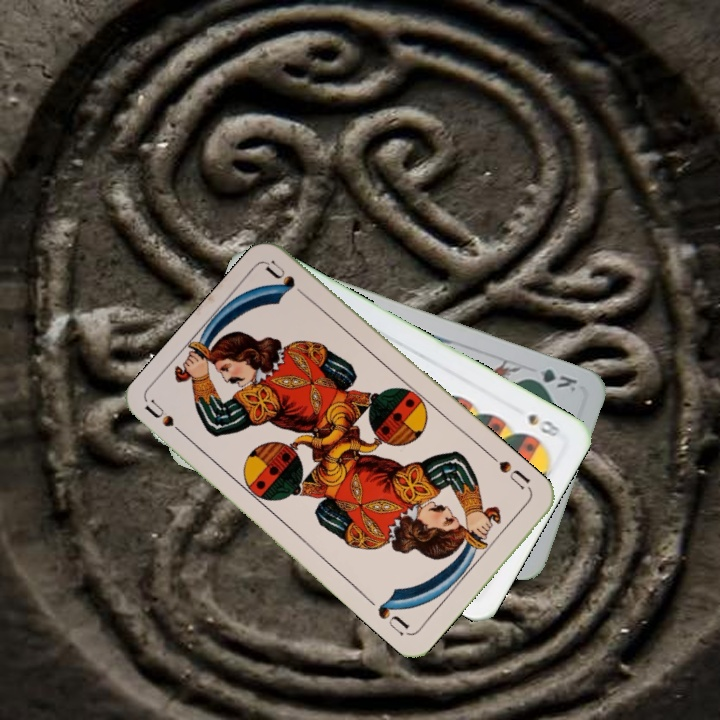GK: (522, 364, 580, 395)
S8: (524, 409, 563, 440)
SU: (142, 397, 193, 444), (486, 451, 535, 495)
